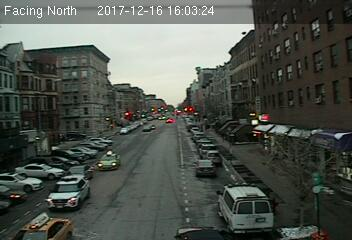car: (96, 151, 120, 169), (193, 159, 215, 176), (206, 150, 223, 166)
police: (217, 182, 278, 235), (44, 173, 90, 214)
